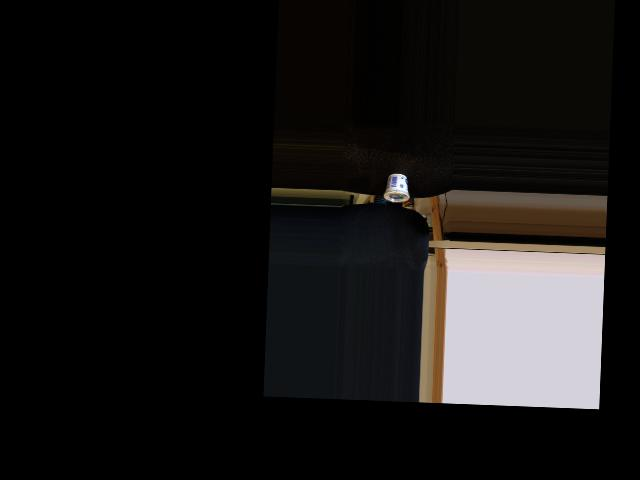cotage: (384, 170, 409, 203)
